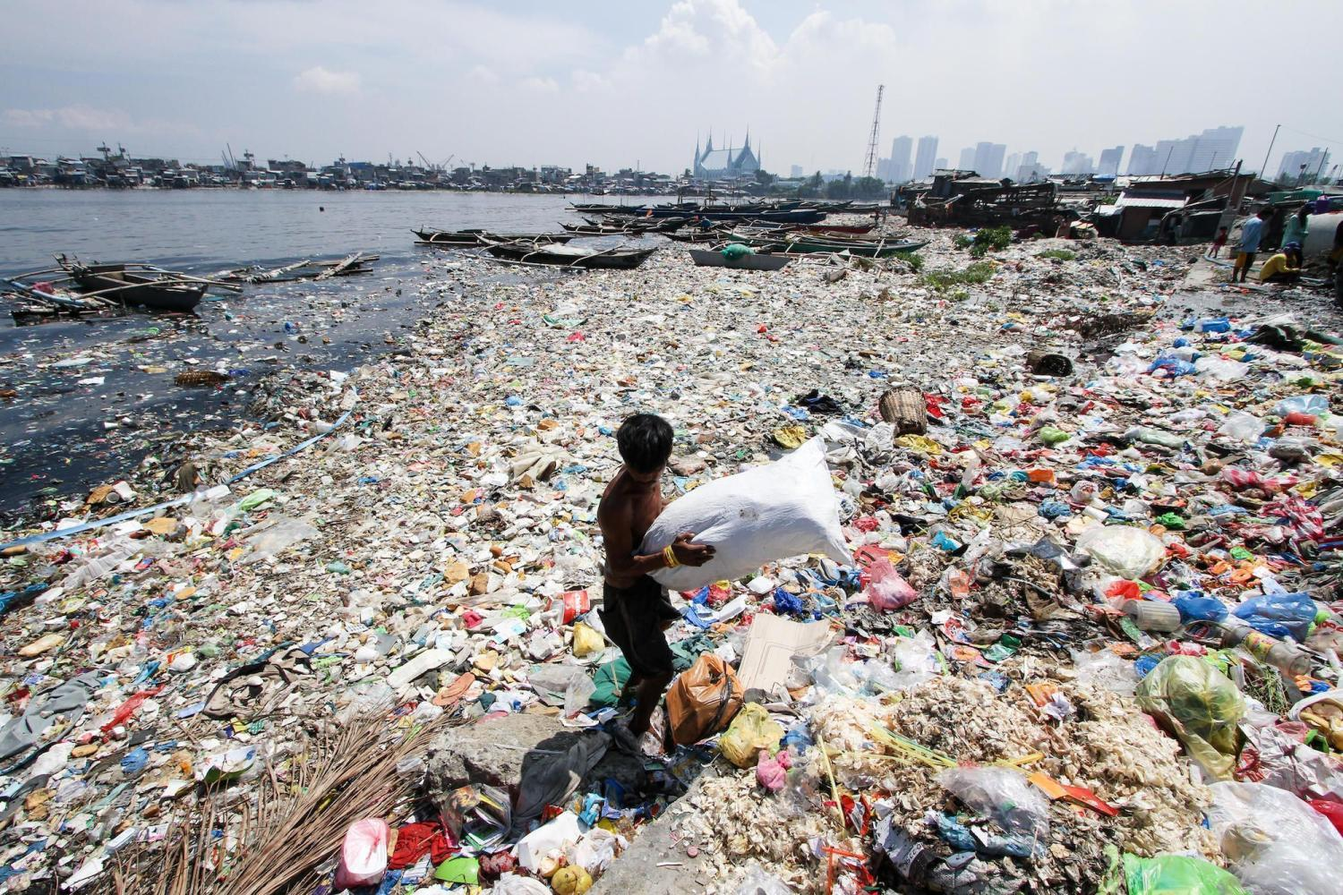garbage: (0, 238, 1343, 895)
